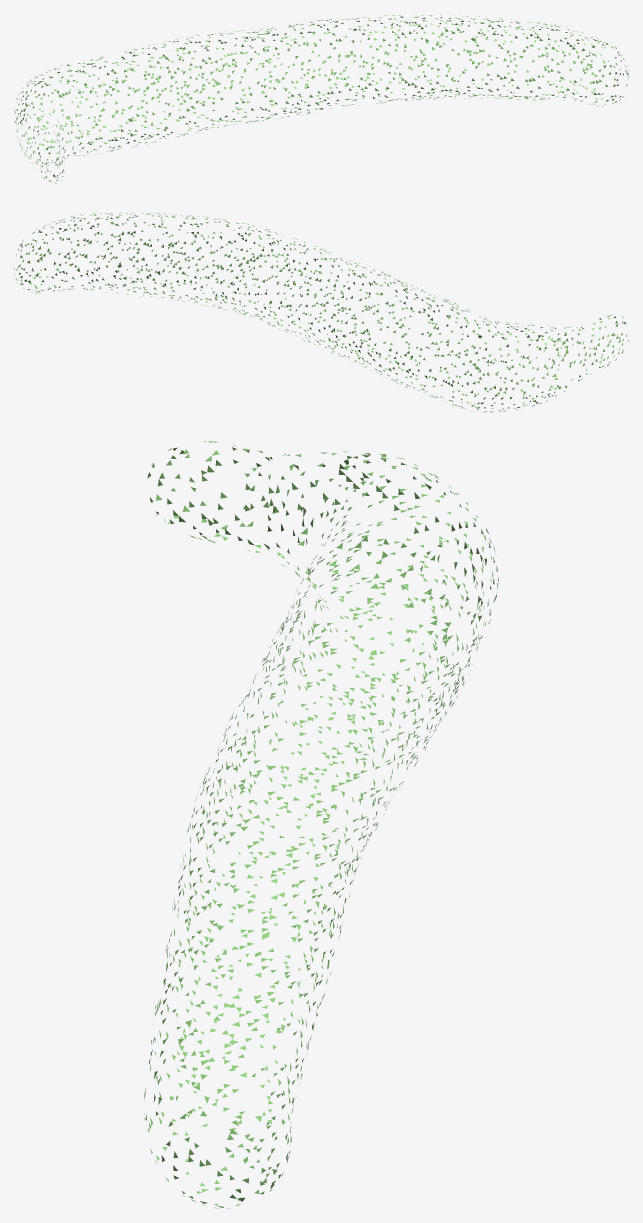
File: morph_015.glb
The picture shows the model from 3 angles, top to bottom: view 1: azimuth 30°, elevation 25°; view 2: azimuth 150°, elevation 25°; view 3: azimuth 270°, elevation 25°; orthographic projection. The views are drawn at different scales.
Size of the model in its own units: 133 by 27.7 by 34.7.
